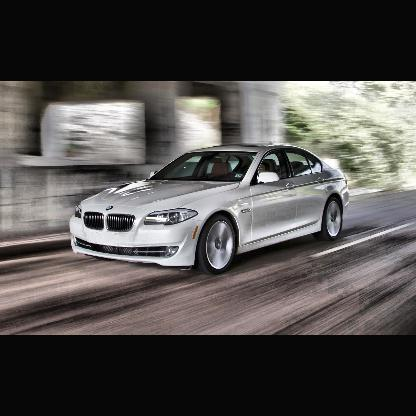BMW ActiveHybrid 5 Sedan 2012: (70, 144, 350, 277)
